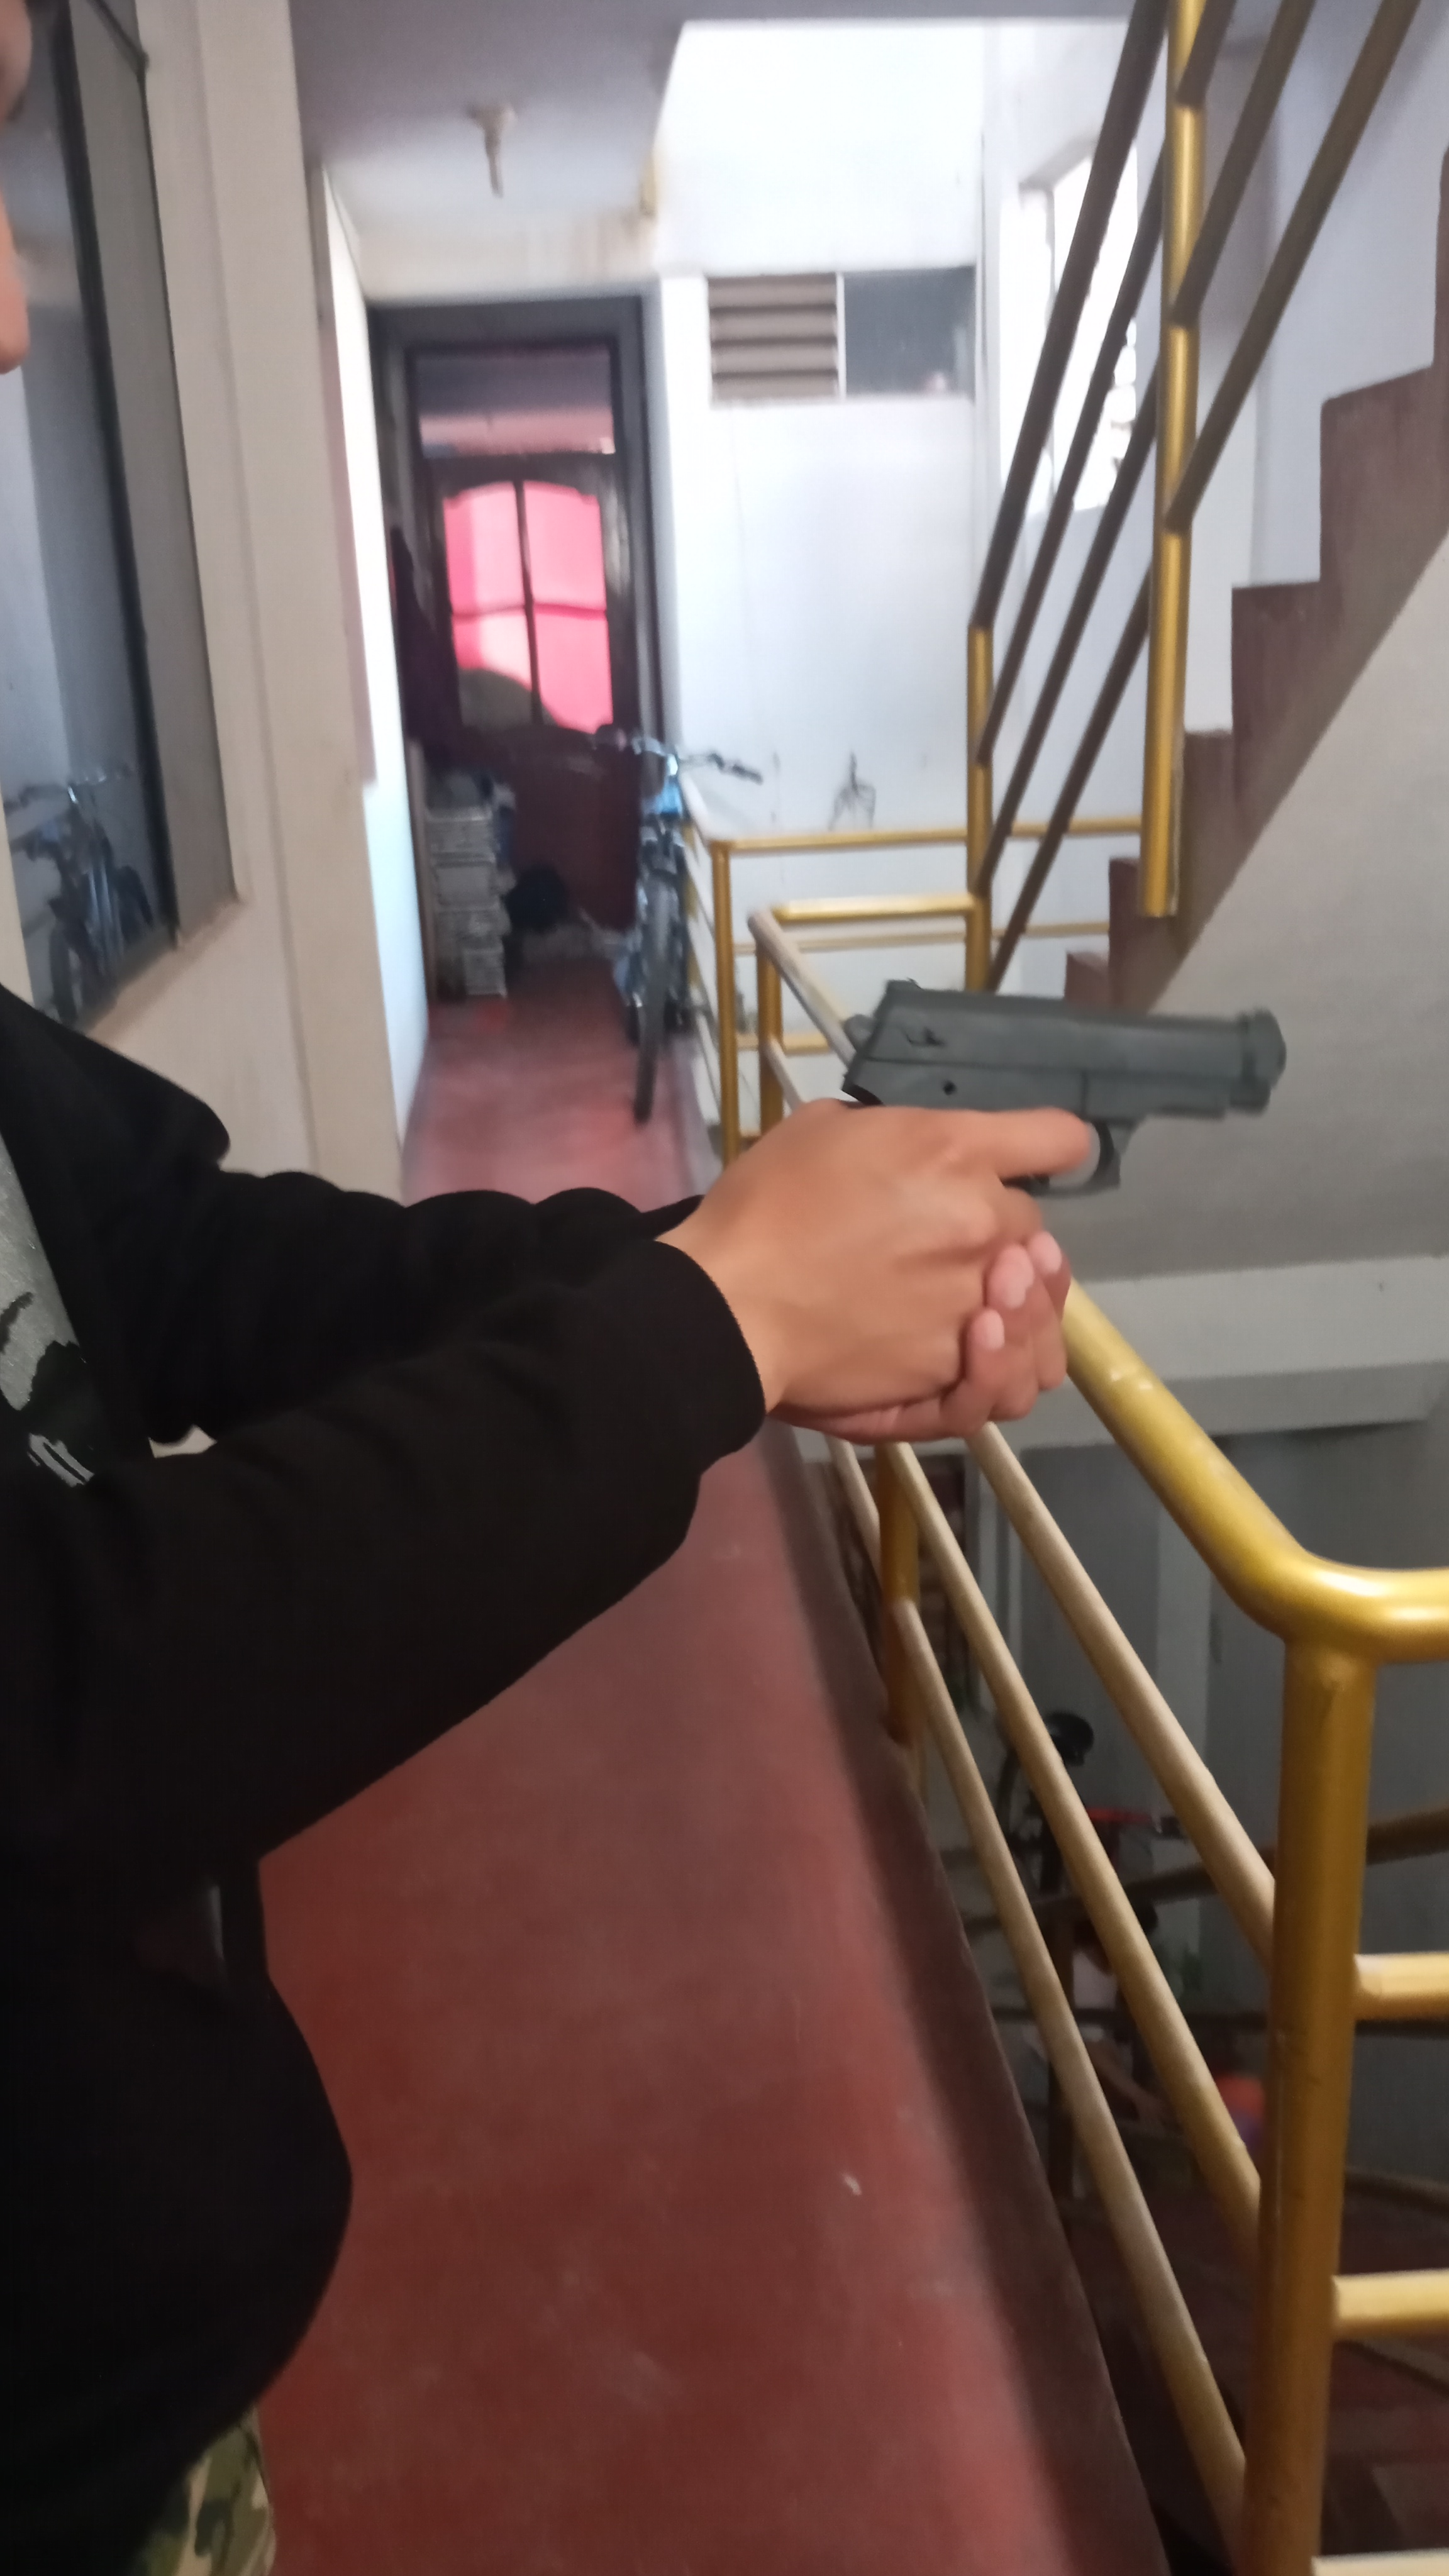Arma: (816, 989, 1307, 1178)
